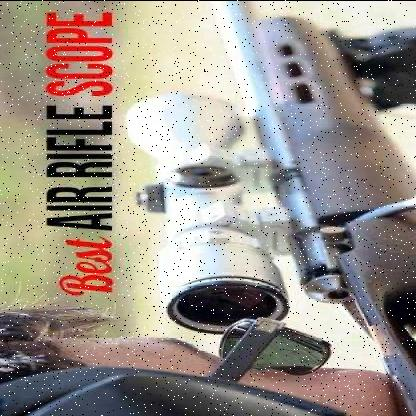rifle: (117, 7, 415, 416)
